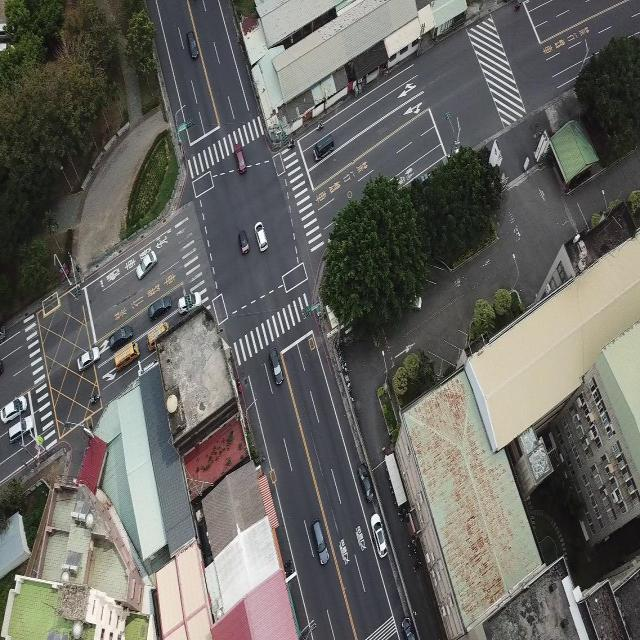bike: (89, 392, 101, 407), (287, 138, 297, 150), (316, 120, 324, 130)
bus: (114, 340, 140, 370), (146, 320, 169, 351), (312, 134, 334, 162)
car: (312, 518, 329, 566), (370, 513, 388, 558), (8, 414, 34, 443), (1, 395, 27, 424), (357, 463, 374, 503), (136, 248, 157, 280), (108, 324, 133, 350), (76, 345, 100, 372), (268, 347, 284, 385), (148, 294, 171, 320), (178, 290, 201, 315), (400, 292, 424, 311), (233, 142, 247, 174), (254, 221, 268, 252), (401, 616, 417, 640), (186, 30, 198, 59), (238, 229, 250, 255)
